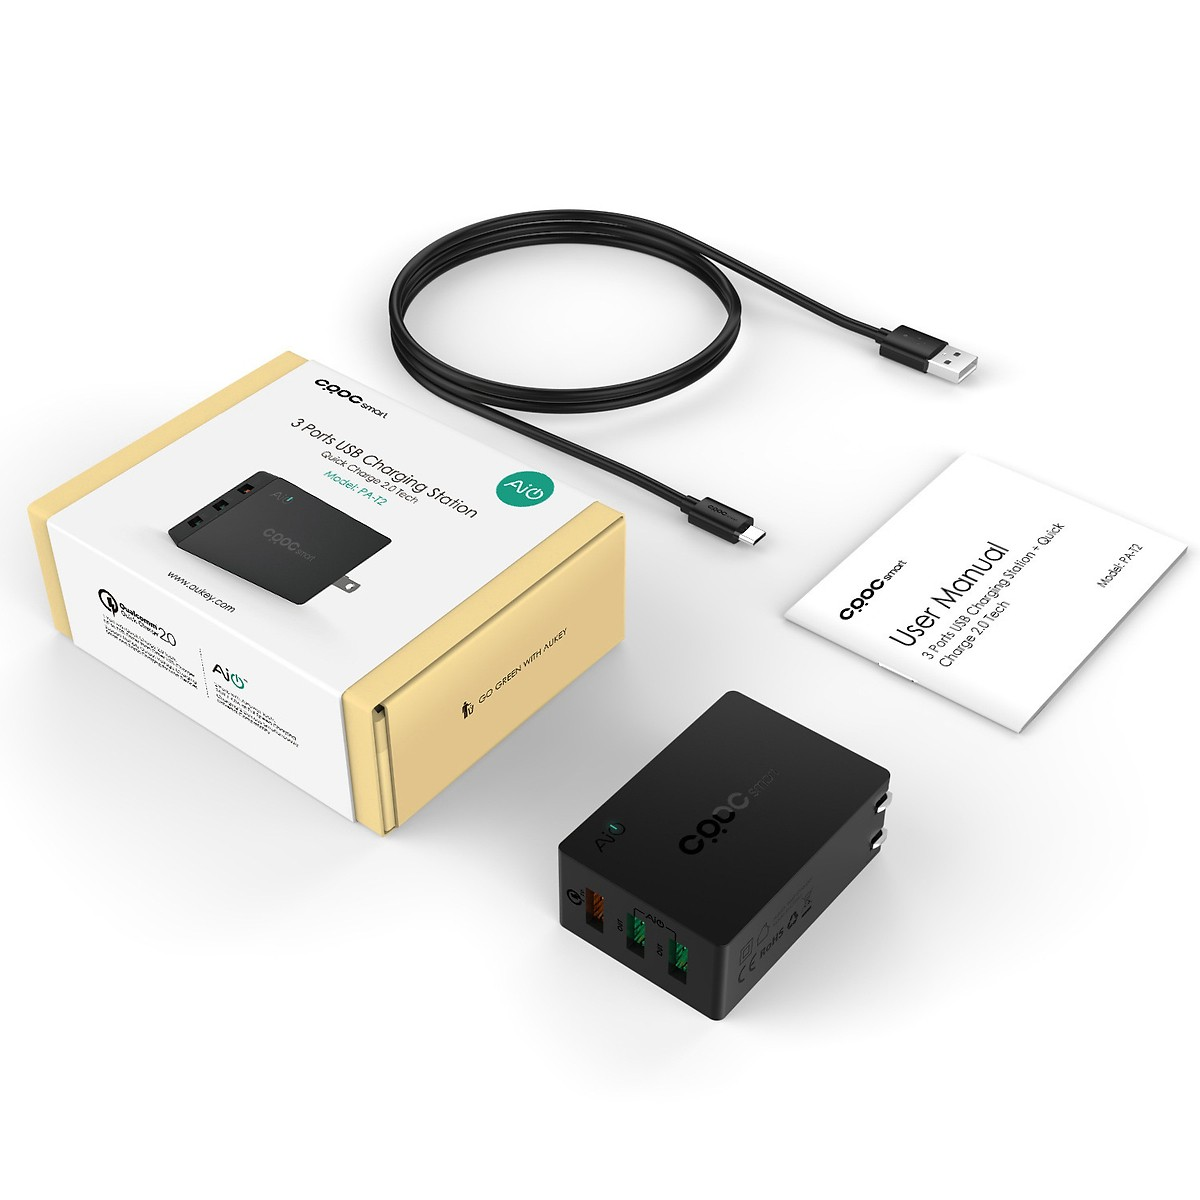Aukey: (580, 712, 899, 921), (151, 548, 279, 669)
